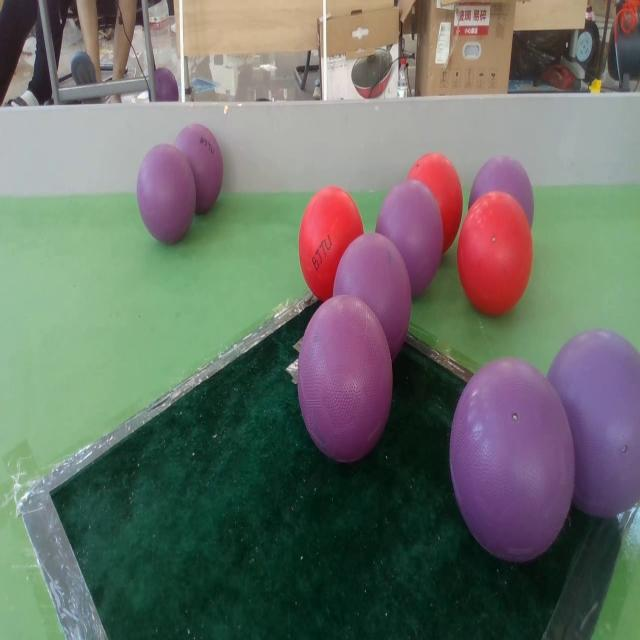invalid: (449, 359, 574, 562), (294, 295, 394, 480), (548, 328, 640, 524), (330, 232, 416, 368), (379, 174, 437, 292), (135, 142, 196, 252), (470, 152, 534, 233), (174, 125, 224, 215)
red: (458, 187, 532, 316), (299, 184, 363, 300), (408, 152, 462, 255)
